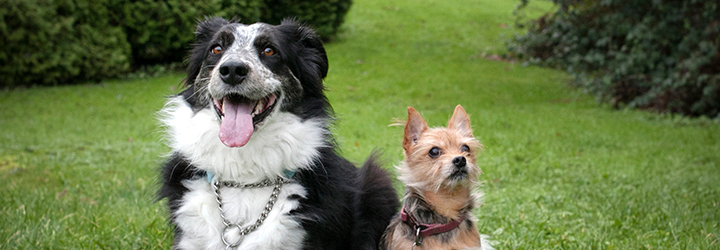pet: (174, 24, 387, 250)
